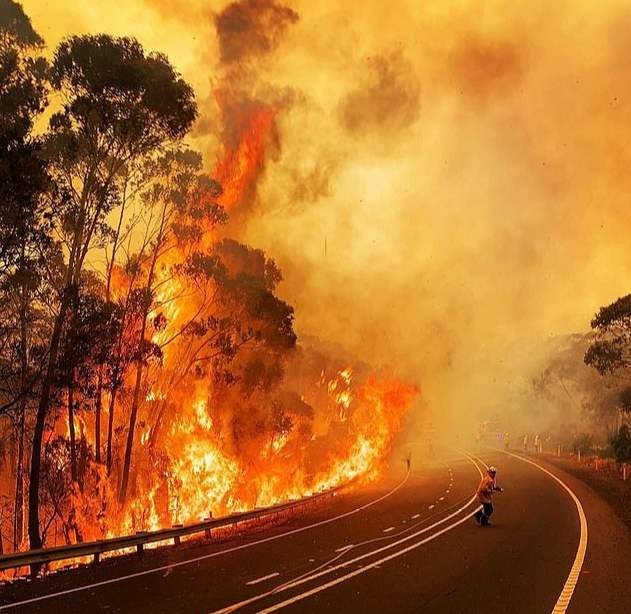fire: (94, 111, 402, 540)
